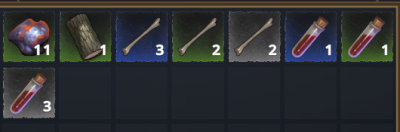ash log: (60, 11, 111, 61)
blood: (341, 10, 393, 62), (284, 11, 337, 62), (3, 68, 55, 119)
bone: (116, 10, 168, 62), (228, 10, 280, 62), (172, 11, 223, 62)
iron ore: (3, 12, 55, 61)
